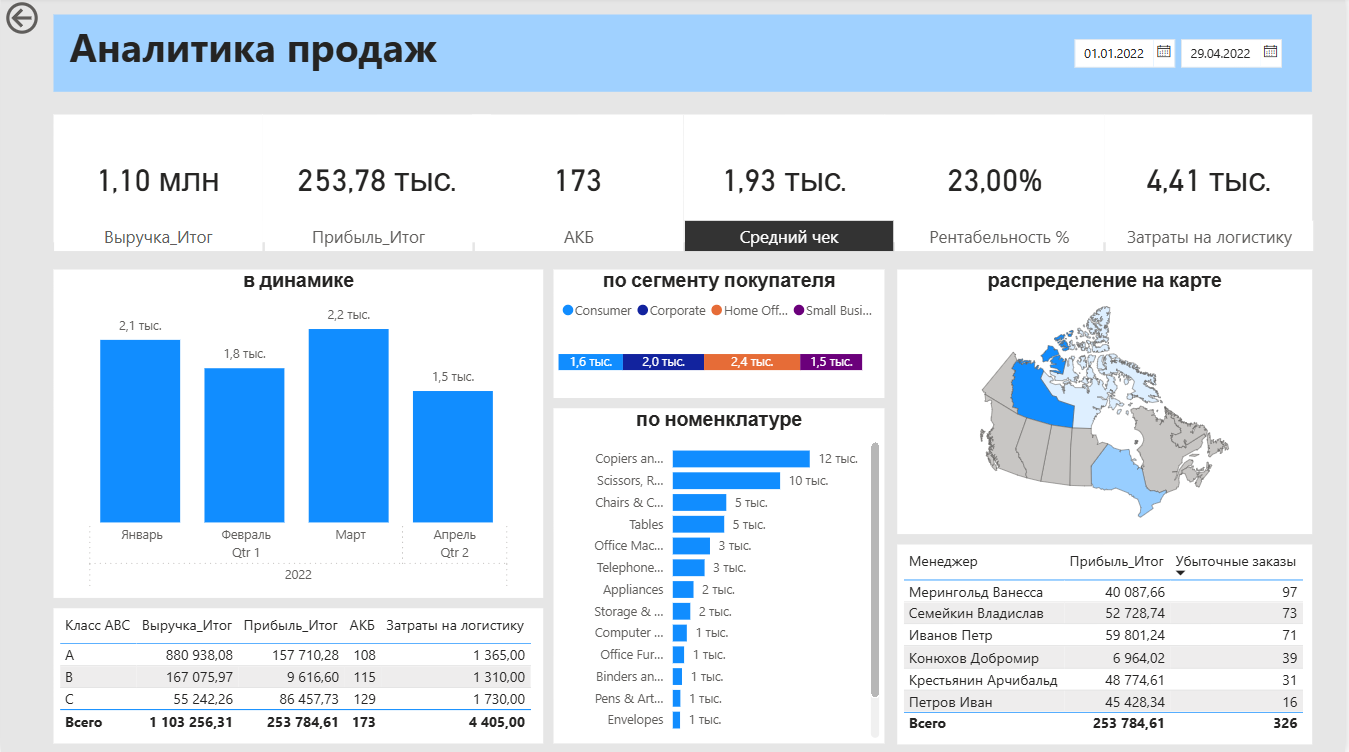

The page's visual inventory and layout, read from the dashboard file:
{"tool":"powerbi","page":{"name":"Страница 1","canvas":[1280,720],"ordinal":0},"visuals":[{"type":"card","fields":{"Values":["Продажи.Выручка_Итог"]},"box":[50,111.9,198.8,121.4],"z":0},{"type":"card","fields":{"Values":["Продажи.Прибыль_Итог"]},"box":[248.8,111.9,217.9,121.4],"z":1000},{"type":"card","fields":{"Values":["Продажи.АКБ"]},"box":[448.8,111.9,201.2,121.4],"z":2000},{"type":"card","fields":{"Values":["Продажи.Средний чек"]},"box":[650,111.9,191.7,121.4],"z":3000},{"type":"card","fields":{"Values":["Продажи.Рентабельность %"]},"box":[841.7,111.9,209.5,121.4],"z":4000},{"type":"card","fields":{"Values":["Продажи.Затраты на логистику"]},"box":[1051.2,111.9,197.6,121.4],"z":5000},{"type":"columnChart","title":"в динамике","fields":{"Y":["Продажи.Рентабельность %"],"Category":["Календарь.Date.Изменение.Иерархия дат.Год","Календарь.Date.Изменение.Иерархия дат.Квартал","Календарь.Date.Изменение.Иерархия дат.Месяц"]},"box":[50,259.5,466.7,313.1],"z":6000},{"type":"barChart","title":"по сегменту покупателя","fields":{"Y":["Продажи.Рентабельность %"],"Series":["СПР_покупатели.Сегмент покупателя"]},"box":[526.2,259.5,315.5,122.6],"z":7000},{"type":"clusteredBarChart","title":"по номенклатуре","fields":{"Y":["Продажи.Рентабельность %"],"Category":["СПР_продукты.Категория продукта","СПР_продукты.Подкатегория продукта","СПР_продукты.Продукт"]},"box":[526.2,391.7,315.5,319],"z":8000},{"type":"actionButton","box":[0,0,100,40],"z":9000},{"type":"shapeMap","title":"распределение на карте","fields":{"Value":["Продажи.Рентабельность %"],"Category":["Продажи.Регион"]},"box":[853.6,259.5,395.2,252.4],"z":10000},{"type":"textbox","box":[50,16.2,1198.8,73.8],"z":11000},{"type":"slicer","fields":{"Values":["Календарь.Date"]},"box":[1010,30,226.2,47.5],"z":12000},{"type":"tableEx","fields":{"Values":["СПР_Менеджеры.Менеджер","Продажи.Прибыль_Итог","Продажи.Убыточные заказы"]},"box":[853.8,521.2,395,190],"z":13000},{"type":"tableEx","fields":{"Values":["СПР_продукты.Класс ABC","Продажи.Выручка_Итог","Продажи.Прибыль_Итог","Продажи.АКБ","Продажи.Затраты на логистику"]},"box":[50,582.5,466.2,128.8],"z":14000},{"type":"slicer","fields":{"Values":["Выбор метки.Выбор метки"]},"box":[29.8,206,1239.3,36.9],"z":15000}]}

Visuals, with their boxes in screenshot pixels (x1, y1, x2, y2), scaled from the page's 1280x720 canvas onto the 1349x752 screenshot:
card - Продажи.Выручка_Итог: bbox=(53, 117, 262, 244)
card - Продажи.Прибыль_Итог: bbox=(262, 117, 492, 244)
card - Продажи.АКБ: bbox=(473, 117, 685, 244)
card - Продажи.Средний чек: bbox=(685, 117, 887, 244)
card - Продажи.Рентабельность %: bbox=(887, 117, 1108, 244)
card - Продажи.Затраты на логистику: bbox=(1108, 117, 1316, 244)
"в динамике" columnChart: bbox=(53, 271, 545, 598)
"по сегменту покупателя" barChart: bbox=(555, 271, 887, 399)
"по номенклатуре" clusteredBarChart: bbox=(555, 409, 887, 742)
actionButton: bbox=(0, 0, 105, 42)
"распределение на карте" shapeMap: bbox=(900, 271, 1316, 535)
textbox: bbox=(53, 17, 1316, 94)
slicer - Календарь.Date: bbox=(1064, 31, 1303, 81)
tableEx - СПР_Менеджеры.Менеджер x Продажи.Прибыль_Итог: bbox=(900, 544, 1316, 743)
tableEx - СПР_продукты.Класс ABC x Продажи.Выручка_Итог: bbox=(53, 608, 544, 743)
slicer - Выбор метки.Выбор метки: bbox=(31, 215, 1338, 254)
